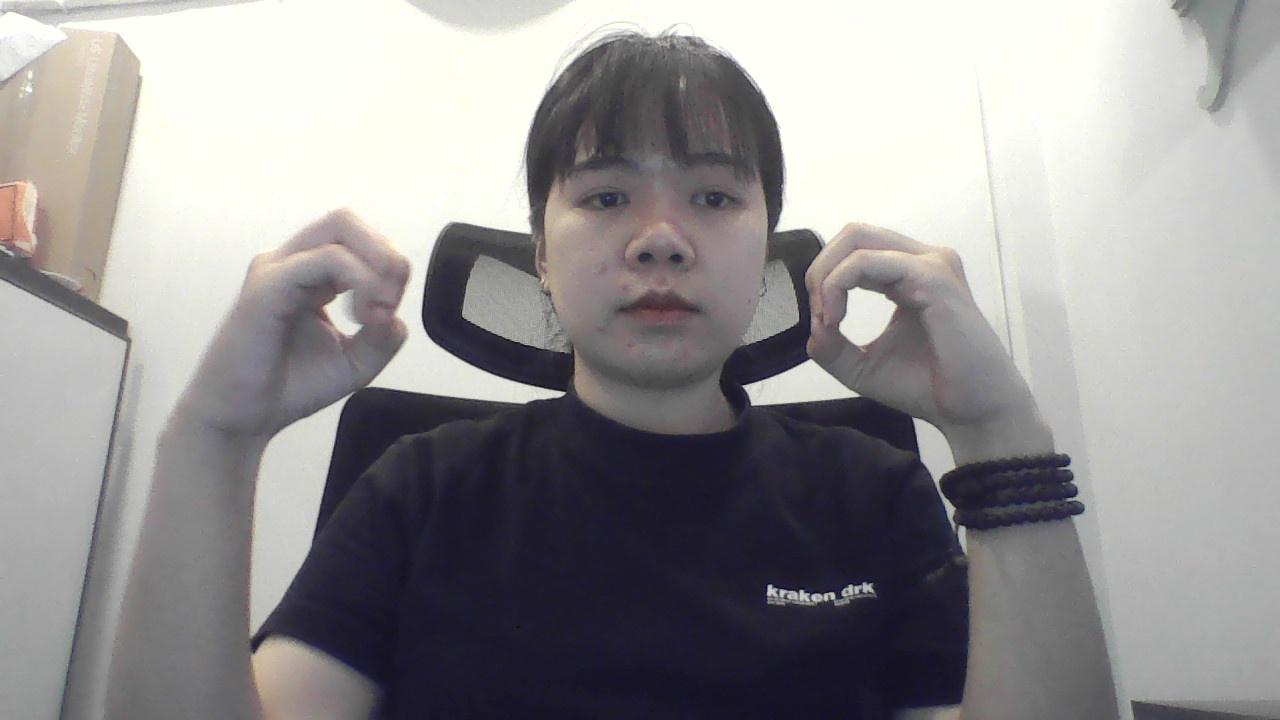O: (159, 197, 418, 438), (796, 197, 1012, 427)
